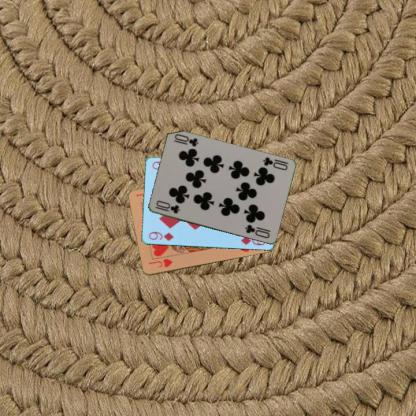10c: (260, 154, 289, 172), (152, 198, 181, 215)
9d: (146, 229, 175, 242)
Jh: (146, 256, 174, 269)
